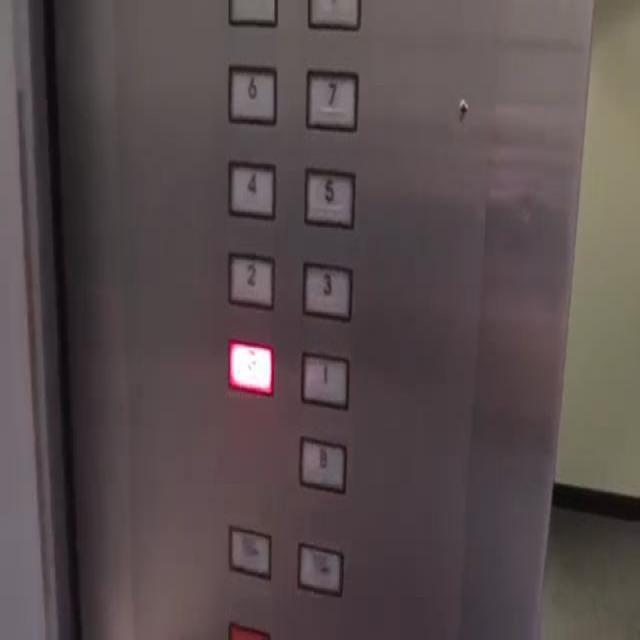1: (299, 348, 350, 409)
2: (226, 249, 274, 308)
3: (302, 260, 352, 321)
4: (228, 158, 276, 218)
5: (304, 166, 356, 230)
6: (228, 62, 275, 126)
7: (305, 66, 358, 130)
B: (300, 432, 348, 493)
blur: (227, 337, 276, 396), (296, 540, 344, 597), (227, 523, 272, 580)
